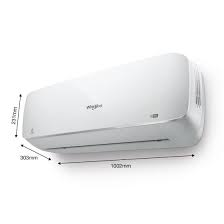ac: (23, 50, 209, 163)
